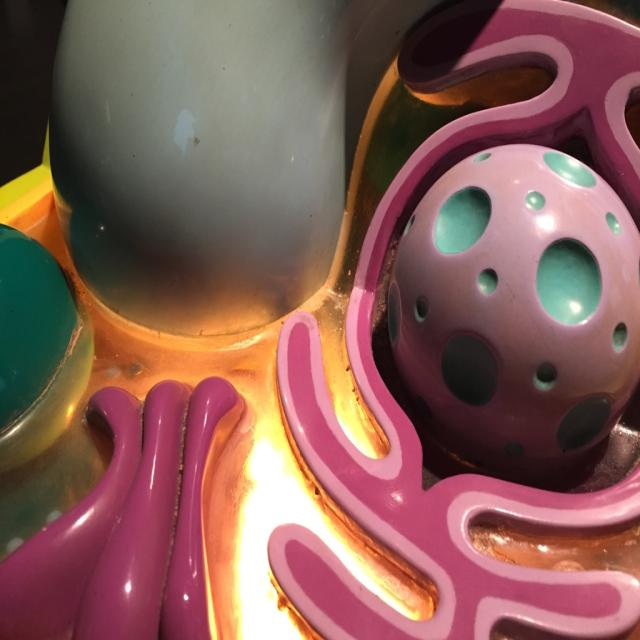Ball: (386, 145, 640, 492)
